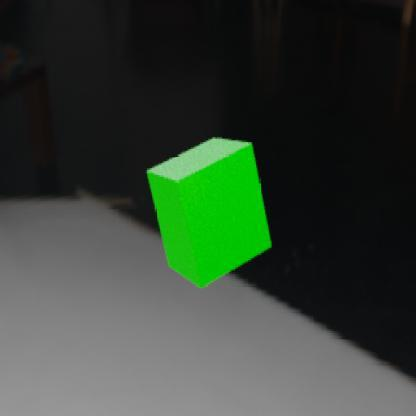green_cube: (146, 137, 272, 288)
